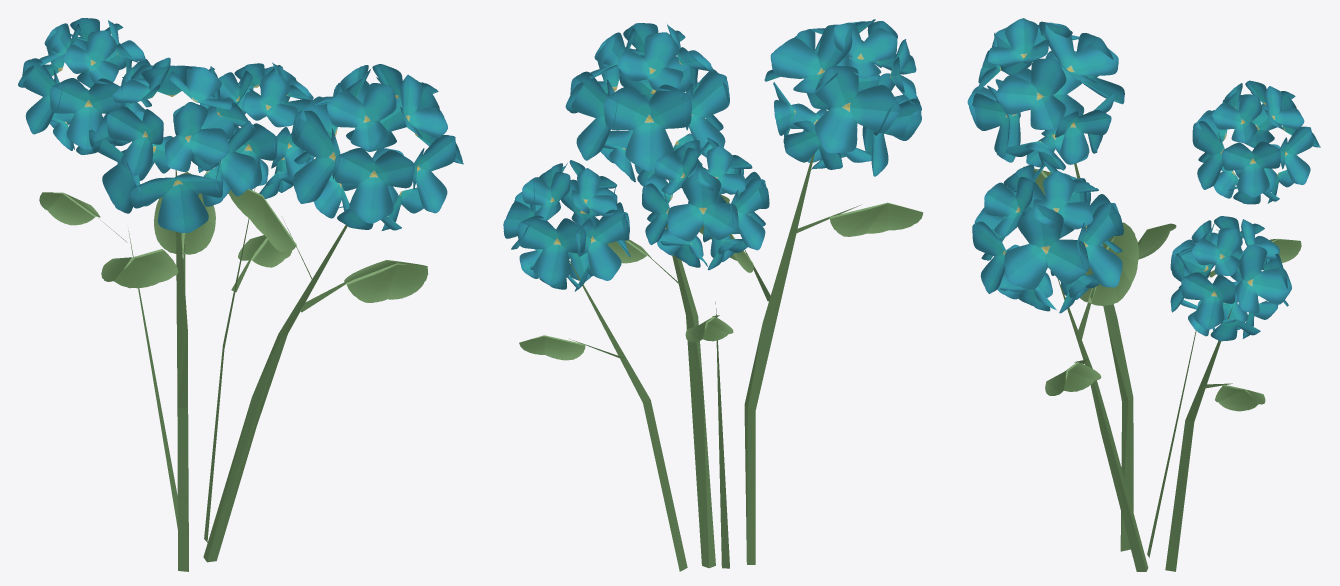
Rendered from Flower_1_Clump.glb.
The picture shows the model from 3 angles, left to right: view 1: azimuth 30°, elevation 25°; view 2: azimuth 150°, elevation 25°; view 3: azimuth 270°, elevation 25°; orthographic projection. The views are drawn at different scales.
Bounding box in the file's own units: 0.4711 × 0.6713 × 0.4352.
Materials: 1 (1 with a texture image).
